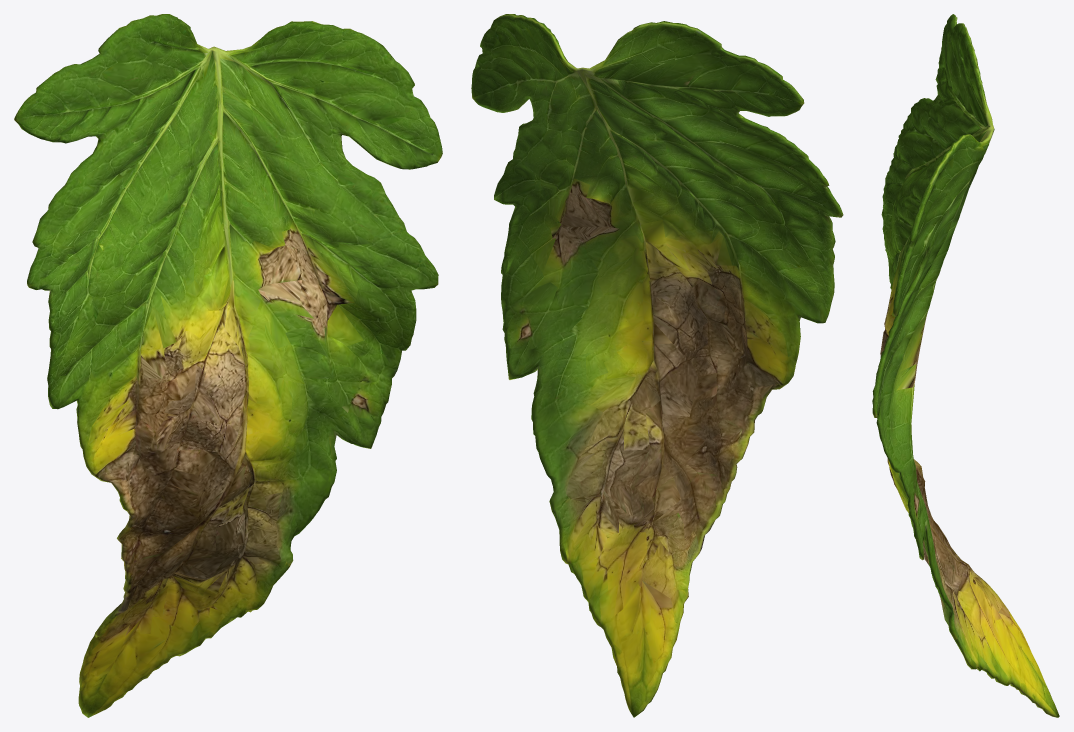
Rendered from tomato_late_blight.glb.
3 views of the same model, side by side, from view 1: azimuth 30°, elevation 25°; view 2: azimuth 150°, elevation 25°; view 3: azimuth 270°, elevation 25° (orthographic). The views are drawn at different scales.
Visible parts, largest first — view 1: tomato_late_blight; view 2: tomato_late_blight; view 3: tomato_late_blight.
Boxes of the visible parts, box(x1,y1,x2,y2) form: tomato_late_blight: box(14, 14, 442, 717); tomato_late_blight: box(471, 14, 843, 717); tomato_late_blight: box(872, 14, 1059, 717).
Size of the model in its own units: 0.5889 by 1 by 0.247.
Materials: 1 (1 with a texture image).
